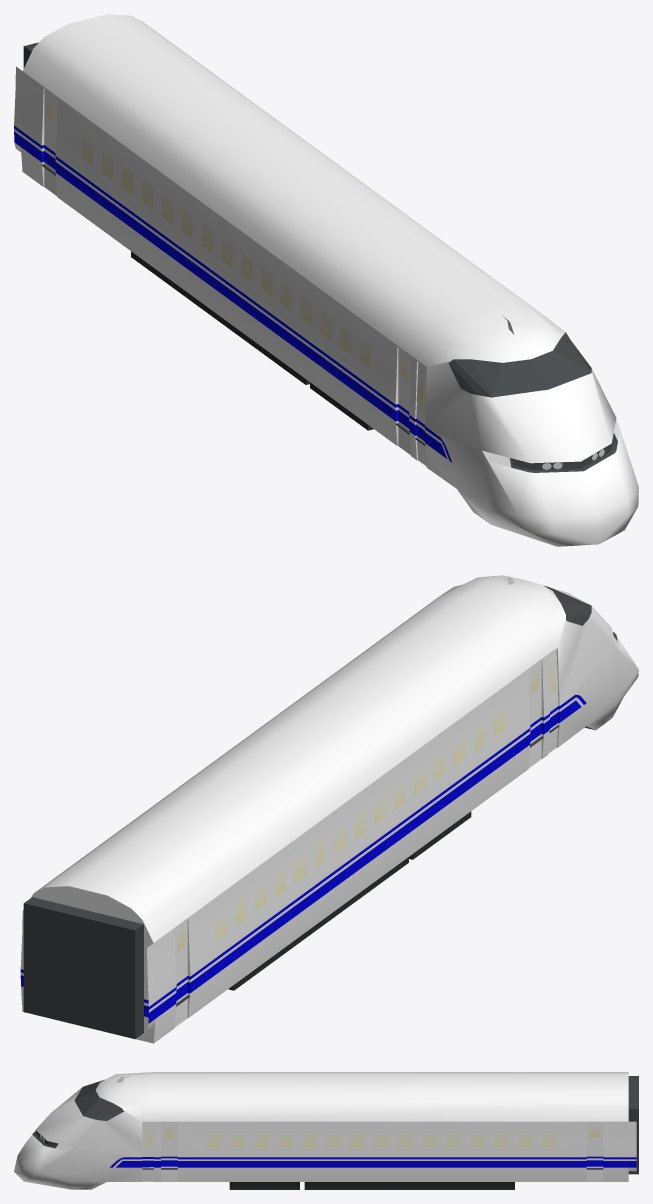
The picture shows the model from 3 angles, top to bottom: view 1: azimuth 30°, elevation 25°; view 2: azimuth 150°, elevation 25°; view 3: azimuth 270°, elevation 25°; orthographic projection. The views are drawn at different scales.
Parts seen in each view (by area): view 1: body; view 2: body; view 3: body.
Part boxes in pixels (box(x1,y1,x2,y2)): body: box(14, 14, 638, 546); body: box(20, 575, 638, 1043); body: box(14, 1072, 638, 1189).
Size of the model in its own units: 6.49 by 7.48 by 43.27.
6 materials, 5 textured.
